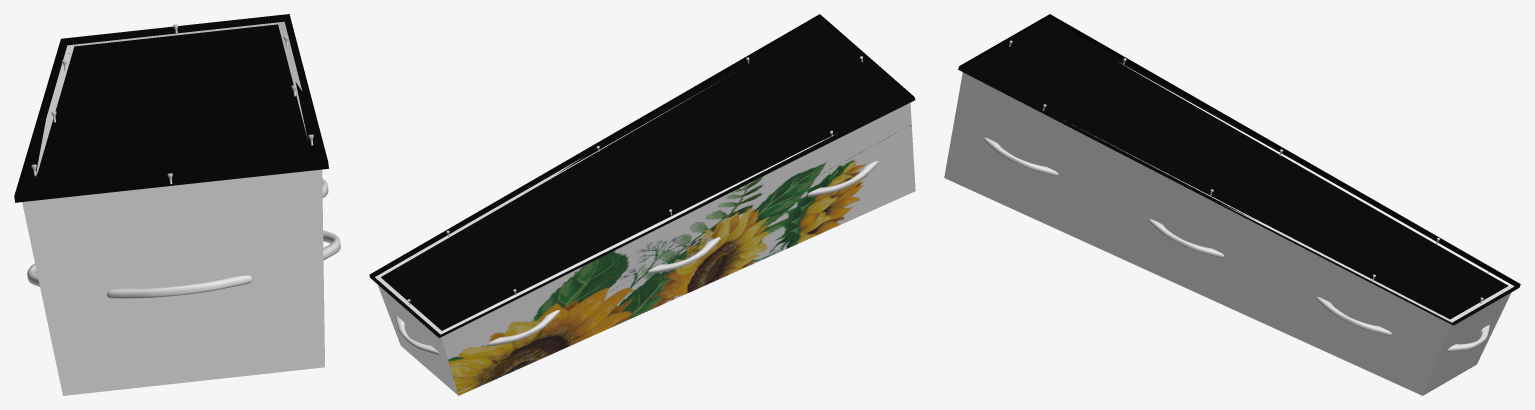
The model's file is sunflower.gltf.
3 views of the same model, side by side, from view 1: azimuth 30°, elevation 25°; view 2: azimuth 150°, elevation 25°; view 3: azimuth 270°, elevation 25° (orthographic). The views are drawn at different scales.
Visible parts, largest first — view 1: Bot_handles_Bot_Cube.004_Cube.001; view 2: Bot_handles_Bot_Cube.004_Cube.001; view 3: Bot_handles_Bot_Cube.004_Cube.001.
Boxes of the visible parts, <box> form: Bot_handles_Bot_Cube.004_Cube.001: <box>14,14,340,395</box>; Bot_handles_Bot_Cube.004_Cube.001: <box>369,14,915,395</box>; Bot_handles_Bot_Cube.004_Cube.001: <box>944,14,1520,395</box>.
Size of the model in its own units: 2.2 by 1.37 by 2.97.
Materials: 4 (1 with a texture image).
